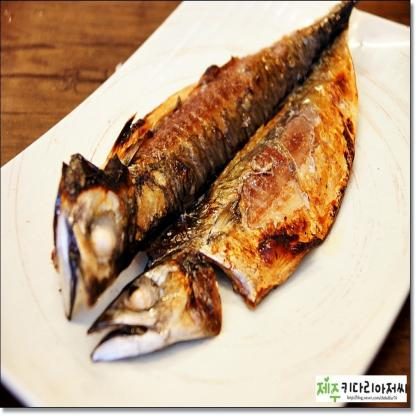Peixe: (44, 0, 384, 373)
